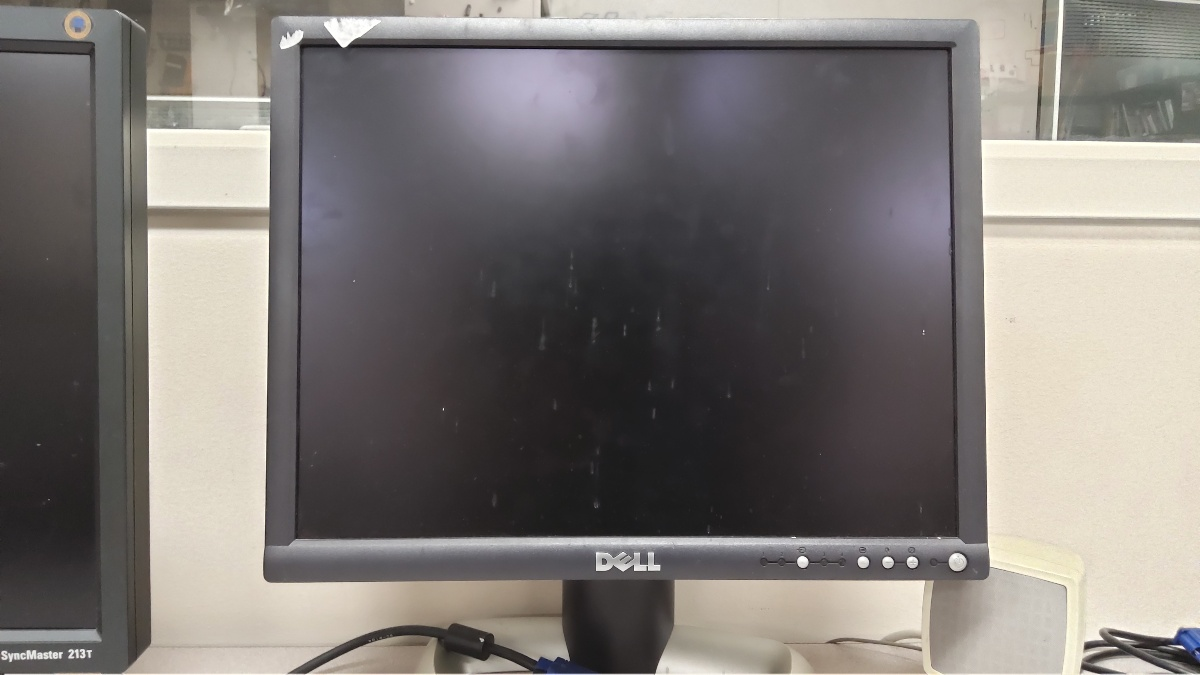monitor: (252, 7, 1000, 588)
